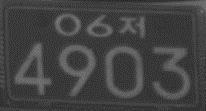0: (104, 44, 144, 100), (53, 12, 81, 37)
3: (151, 45, 191, 100)
4: (13, 41, 51, 96)
6: (85, 13, 113, 38)
9: (57, 43, 98, 97)
저: (118, 15, 146, 38)
